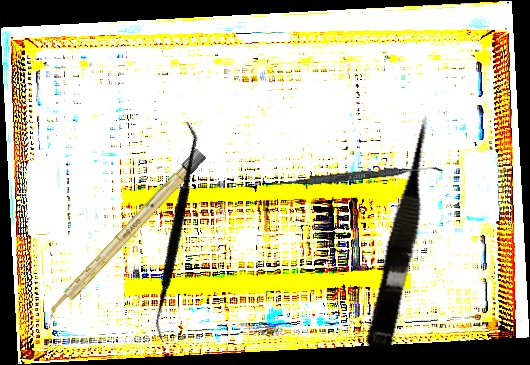Micro Scissor: (365, 113, 446, 353)
Scalpel Handle: (43, 148, 207, 322)
Spatula Surgical: (85, 120, 263, 342), (272, 160, 443, 192)
